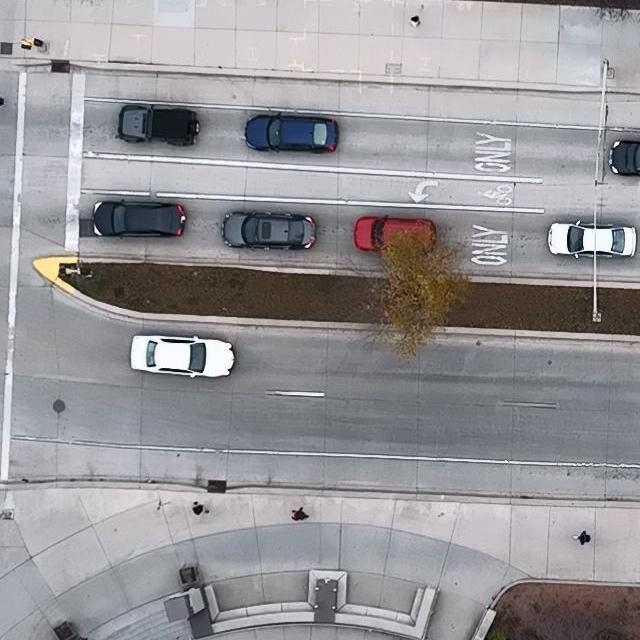car: (129, 334, 235, 378), (92, 198, 187, 240), (221, 209, 316, 251), (244, 112, 340, 152), (548, 219, 636, 260), (115, 104, 198, 146), (352, 213, 436, 251), (608, 140, 640, 176)
